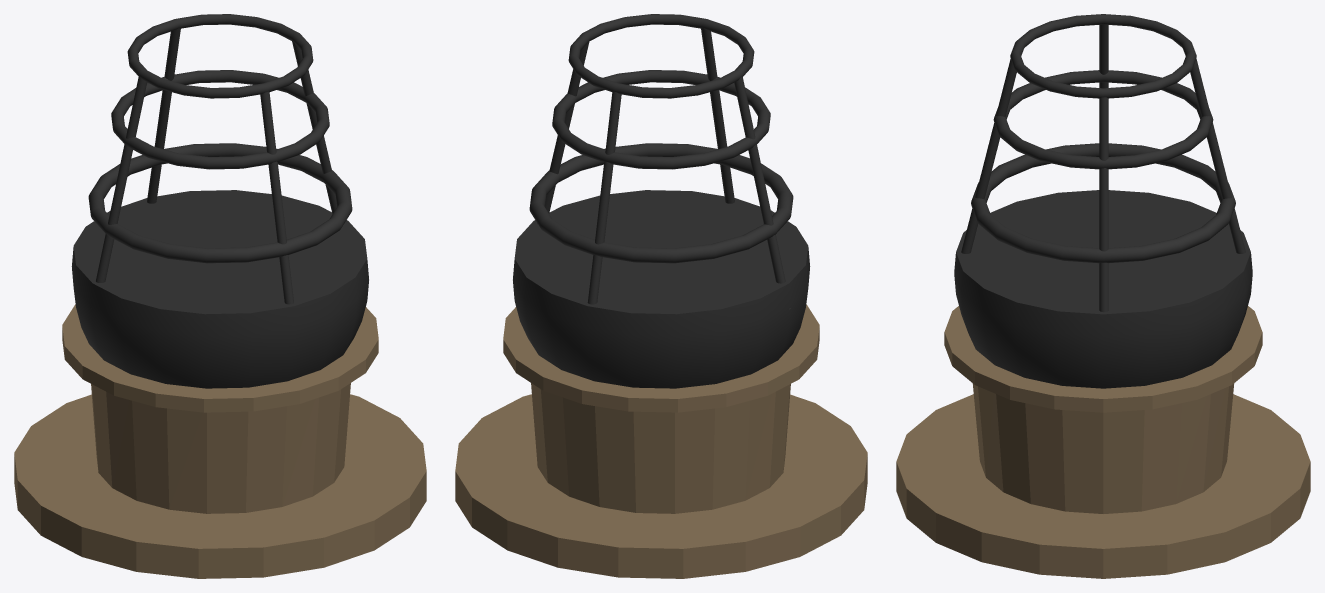
Rendered from EarthBasedLaser.fbx.
3 renders of one model, left to right at view 1: azimuth 30°, elevation 25°; view 2: azimuth 150°, elevation 25°; view 3: azimuth 270°, elevation 25°, orthographic.
Visible parts, largest first — view 1: BaseOfLaser, LaserHead; view 2: BaseOfLaser, LaserHead; view 3: BaseOfLaser, LaserHead.
Boxes of the visible parts, x1,y1,x2,y2 form: BaseOfLaser: (14, 304, 426, 578); LaserHead: (71, 14, 368, 388); BaseOfLaser: (455, 304, 867, 578); LaserHead: (513, 14, 810, 388); BaseOfLaser: (896, 306, 1310, 578); LaserHead: (954, 14, 1252, 388).
Size of the model in its own units: 6.89 by 8.08 by 6.89.
